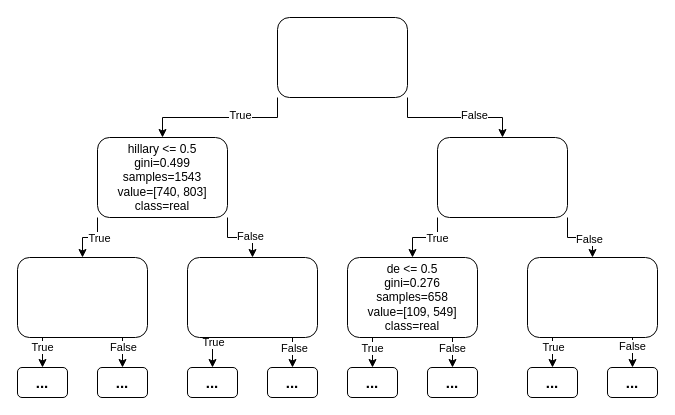
Some shapes in this 675 by 415 pixel diagram are drawn without their labels. Here are the shapes that lost their labels. From the top down, the centre of each, then its label:
(x=342, y=57): donald <= 0.5 gini=0.476 samples=2286 value=[893, 1393] class=real
(x=502, y=177): the <= 0.5 gini=0.327 samples=743 value=[153, 590] class=fake
(x=82, y=297): the <= 0.5 gini=0.494 samples=1450 value=[648, 802] class=real
(x=252, y=297): tribute <= 0.5 gini=0.021 samples=93 value=[92, 1] class=fake
(x=592, y=297): trumps <= 0.5 gini=0.499 samples=85 value=[44, 41] class=fake
